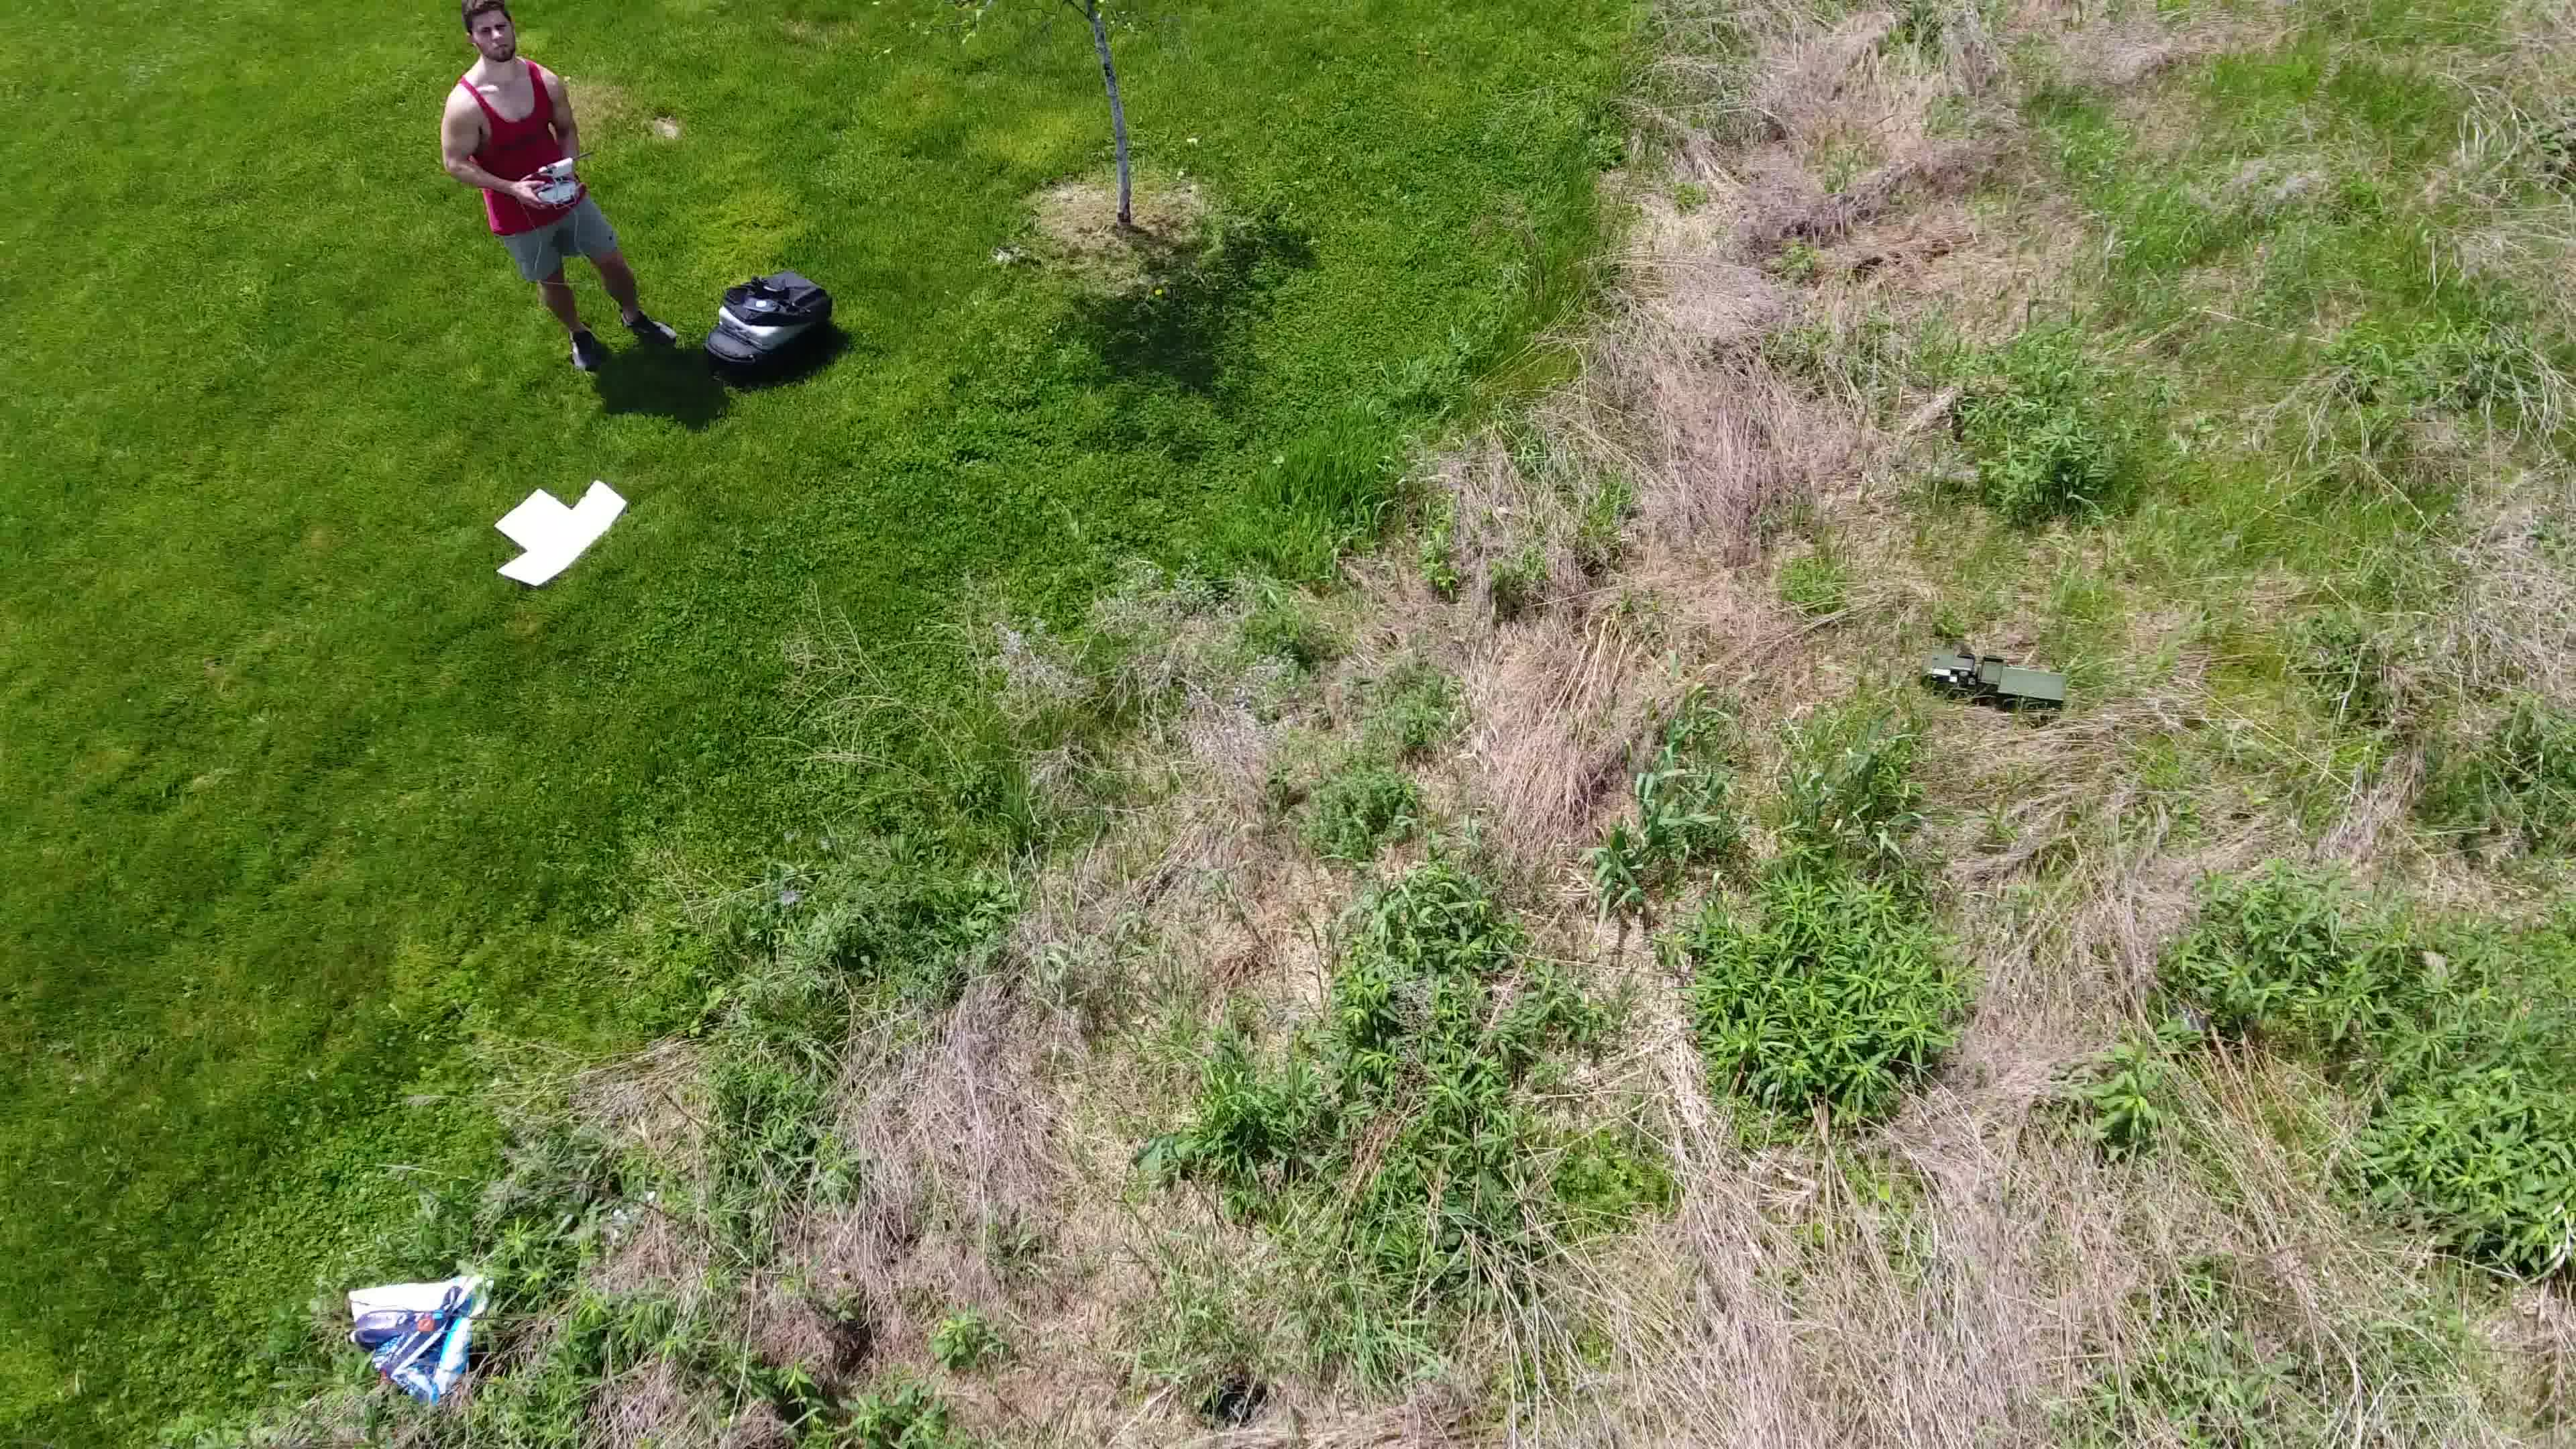transporter9: (1920, 648, 2070, 715)
